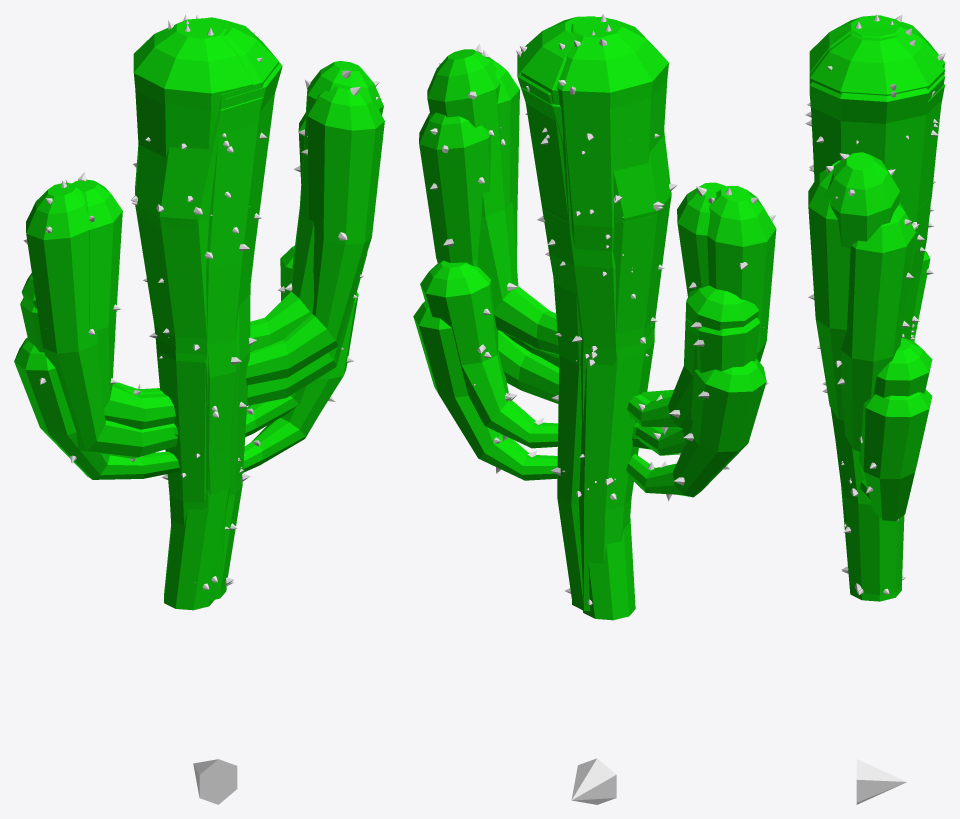
The model's file is Cactus.fbx.
3 views of the same model, side by side, from view 1: azimuth 30°, elevation 25°; view 2: azimuth 150°, elevation 25°; view 3: azimuth 270°, elevation 25° (orthographic).
Visible parts, largest first — view 1: Cactus2, Cactus4, Cactus3, Cactus5, Cactus1, SpikePrefab; view 2: Cactus3, Cactus1, Cactus2, Cactus4, Cactus5, SpikePrefab; view 3: Cactus3, Cactus1, Cactus4, Cactus2, Cactus5, SpikePrefab.
Boxes of the visible parts, <box> form: Cactus2: <box>20,19,384,528</box>; Cactus4: <box>26,62,358,600</box>; Cactus3: <box>14,17,367,610</box>; Cactus5: <box>72,97,306,436</box>; Cactus1: <box>21,18,383,587</box>; SpikePrefab: <box>193,759,237,804</box>; Cactus3: <box>419,16,766,620</box>; Cactus1: <box>427,16,758,605</box>; Cactus2: <box>487,18,760,606</box>; Cactus4: <box>413,54,776,611</box>; Cactus5: <box>420,87,726,448</box>; SpikePrefab: <box>571,758,616,804</box>; Cactus3: <box>809,32,944,576</box>; Cactus1: <box>809,25,944,595</box>; Cactus4: <box>809,75,944,601</box>; Cactus2: <box>808,15,944,420</box>; Cactus5: <box>809,84,944,397</box>; SpikePrefab: <box>856,759,906,804</box>.
Bounding box in the file's own units: 1114 × 2426 × 397.
